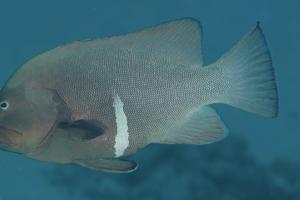Serranidae -Groupers-: (0, 16, 281, 176)
